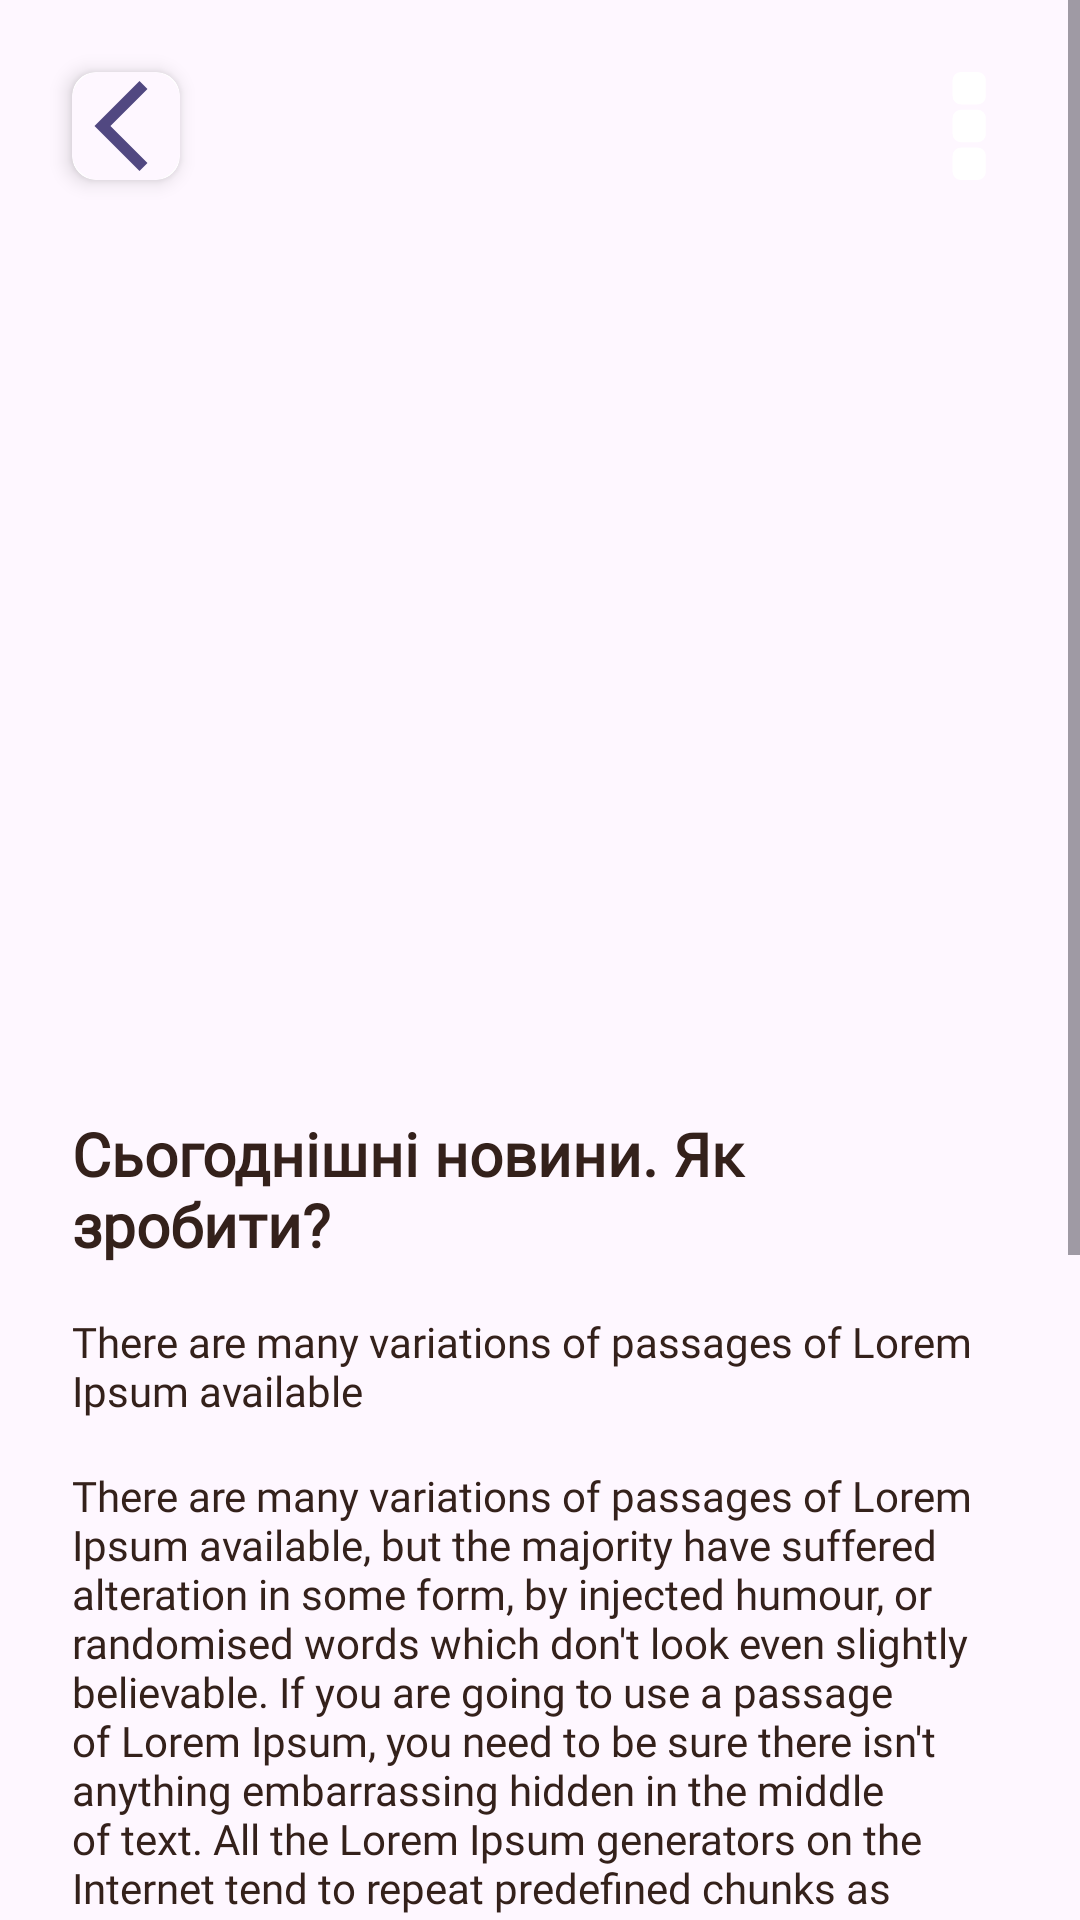

Icon click points for this 1080 × 1920 phone screenshot, format point (x, y):
arrow back: point (109, 126)
